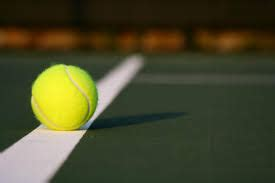tennis_ball: (30, 63, 98, 131)
